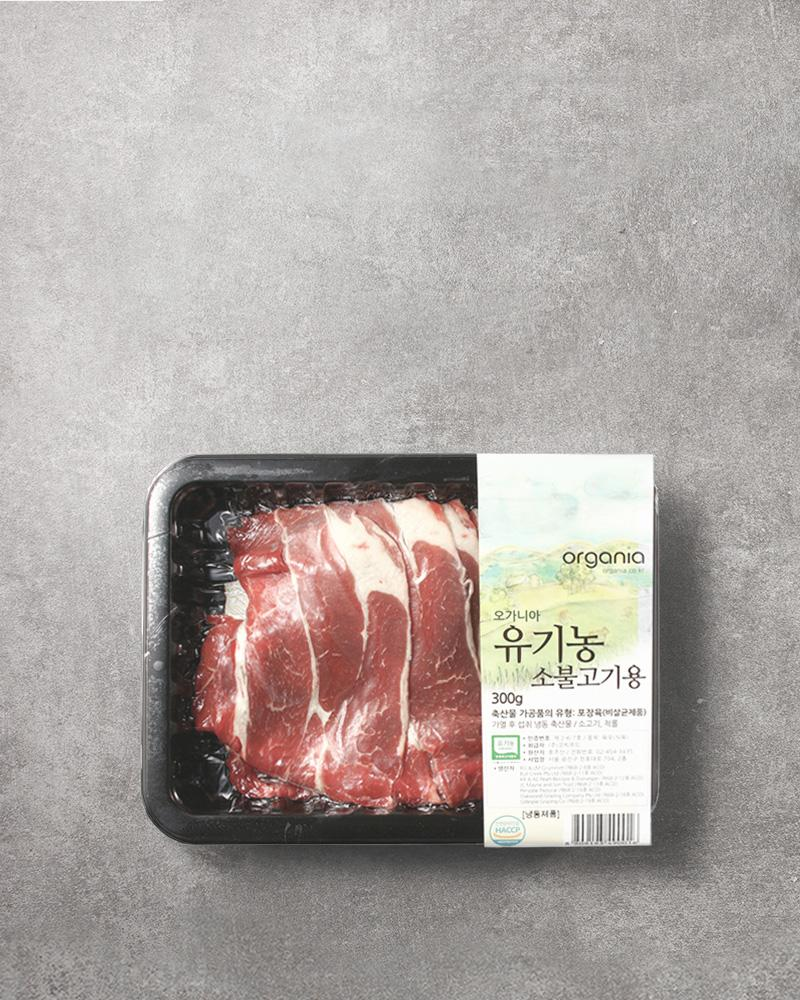beef: (231, 767, 594, 1000)
